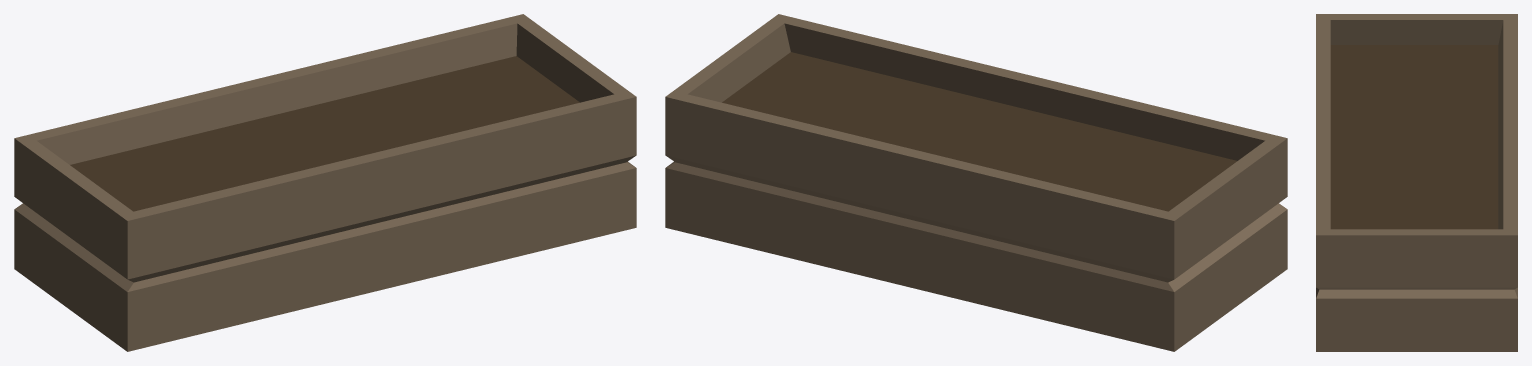
File: Environment_PlanterBox.fbx
3 views of the same model, side by side, from view 1: azimuth 30°, elevation 25°; view 2: azimuth 150°, elevation 25°; view 3: azimuth 270°, elevation 25° (orthographic). The views are drawn at different scales.
Visible parts, largest first — view 1: Environment_PlanterBox; view 2: Environment_PlanterBox; view 3: Environment_PlanterBox.
Boxes of the visible parts, box(x1,y1,x2,y2) form: Environment_PlanterBox: box(14, 14, 636, 351); Environment_PlanterBox: box(665, 14, 1287, 351); Environment_PlanterBox: box(1316, 14, 1517, 351).
Bounding box in the file's own units: 200 × 49.15 × 77.01.
